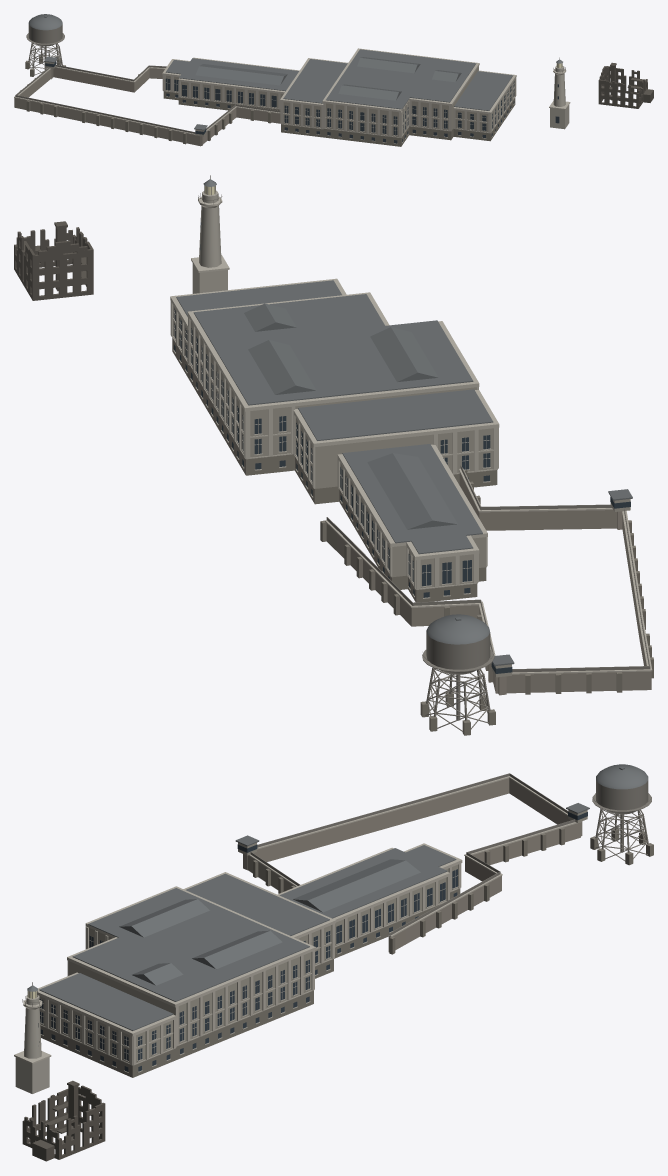
The model's file is alcatraz-island-near.glb.
3 renders of one model, top to bottom at view 1: azimuth 30°, elevation 25°; view 2: azimuth 150°, elevation 25°; view 3: azimuth 270°, elevation 25°, orthographic. The views are drawn at different scales.
Parts seen in each view (by area): view 1: alcatraz-island-0-roof, alcatraz-island-0-trim, alcatraz-island-0-stone, alcatraz-island-0-wall, alcatraz-island-0-base, alcatraz-island-0-glass, alcatraz-island-0-steel, alcatraz-island-0-ruin, alcatraz-island-0-tower; view 2: alcatraz-island-0-roof, alcatraz-island-0-trim, alcatraz-island-0-stone, alcatraz-island-0-wall, alcatraz-island-0-base, alcatraz-island-0-steel, alcatraz-island-0-ruin, alcatraz-island-0-glass, alcatraz-island-0-tower; view 3: alcatraz-island-0-roof, alcatraz-island-0-trim, alcatraz-island-0-wall, alcatraz-island-0-stone, alcatraz-island-0-base, alcatraz-island-0-steel, alcatraz-island-0-glass, alcatraz-island-0-ruin, alcatraz-island-0-tower.
Part boxes in pixels (bbox=[...]): alcatraz-island-0-roof: bbox=[28, 14, 562, 130]; alcatraz-island-0-trim: bbox=[14, 48, 570, 144]; alcatraz-island-0-stone: bbox=[45, 61, 514, 136]; alcatraz-island-0-wall: bbox=[14, 67, 280, 146]; alcatraz-island-0-base: bbox=[20, 56, 515, 146]; alcatraz-island-0-glass: bbox=[45, 61, 559, 143]; alcatraz-island-0-steel: bbox=[15, 24, 565, 133]; alcatraz-island-0-ruin: bbox=[598, 62, 653, 108]; alcatraz-island-0-tower: bbox=[550, 65, 569, 129]; alcatraz-island-0-roof: bbox=[176, 179, 632, 665]; alcatraz-island-0-trim: bbox=[170, 196, 652, 674]; alcatraz-island-0-stone: bbox=[173, 305, 630, 677]; alcatraz-island-0-wall: bbox=[326, 472, 651, 695]; alcatraz-island-0-base: bbox=[172, 338, 653, 735]; alcatraz-island-0-steel: bbox=[198, 175, 650, 731]; alcatraz-island-0-ruin: bbox=[14, 221, 93, 300]; alcatraz-island-0-glass: bbox=[174, 222, 630, 673]; alcatraz-island-0-tower: bbox=[192, 190, 227, 293]; alcatraz-island-0-roof: bbox=[27, 764, 648, 1030]; alcatraz-island-0-trim: bbox=[14, 776, 581, 1072]; alcatraz-island-0-wall: bbox=[243, 778, 582, 951]; alcatraz-island-0-stone: bbox=[39, 810, 587, 1063]; alcatraz-island-0-base: bbox=[40, 828, 653, 1077]; alcatraz-island-0-steel: bbox=[22, 773, 651, 1006]; alcatraz-island-0-glass: bbox=[38, 812, 587, 1071]; alcatraz-island-0-ruin: bbox=[22, 1080, 105, 1161]; alcatraz-island-0-tower: bbox=[15, 995, 49, 1093].
Bounding box in the file's own units: 218 × 31.41 × 159.
